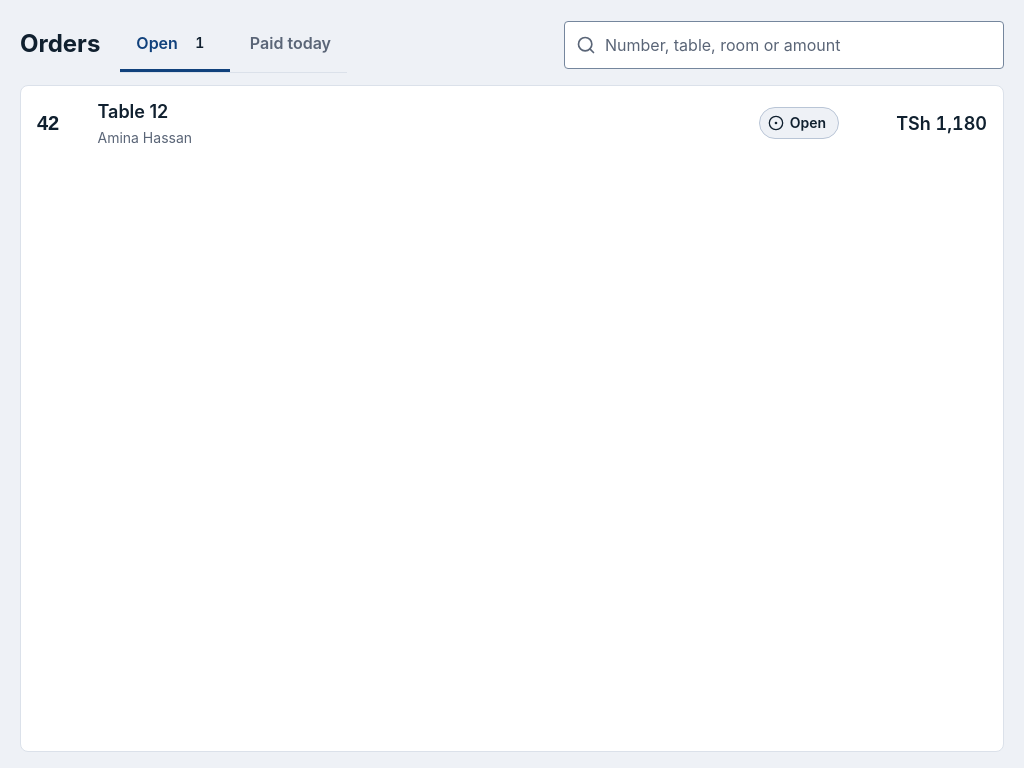
Test case: Orders › prints the bill for an open order: Yetu makes it, this till prints that one job, and says so
Click the button with test id "order-row-order-1": (133, 112) 21,86 -> 1003,160
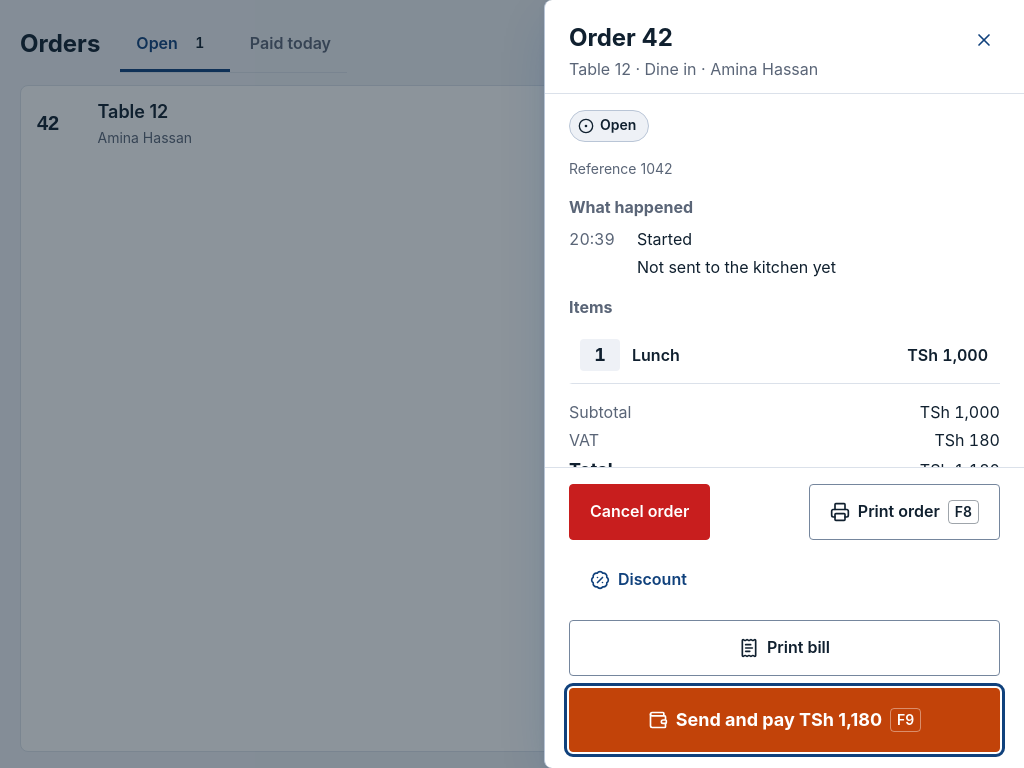
Click the button "Print bill": (784, 648) 569,620 -> 1000,676
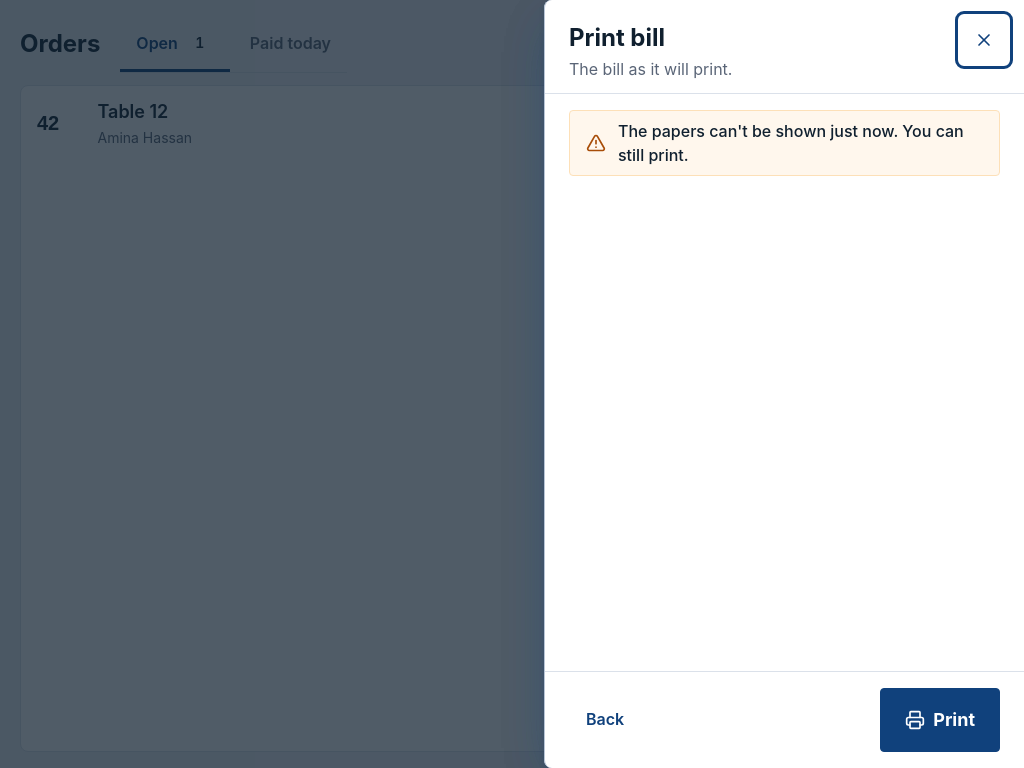
Click the button with test id "paper-print": (940, 720) 880,688 -> 1000,752
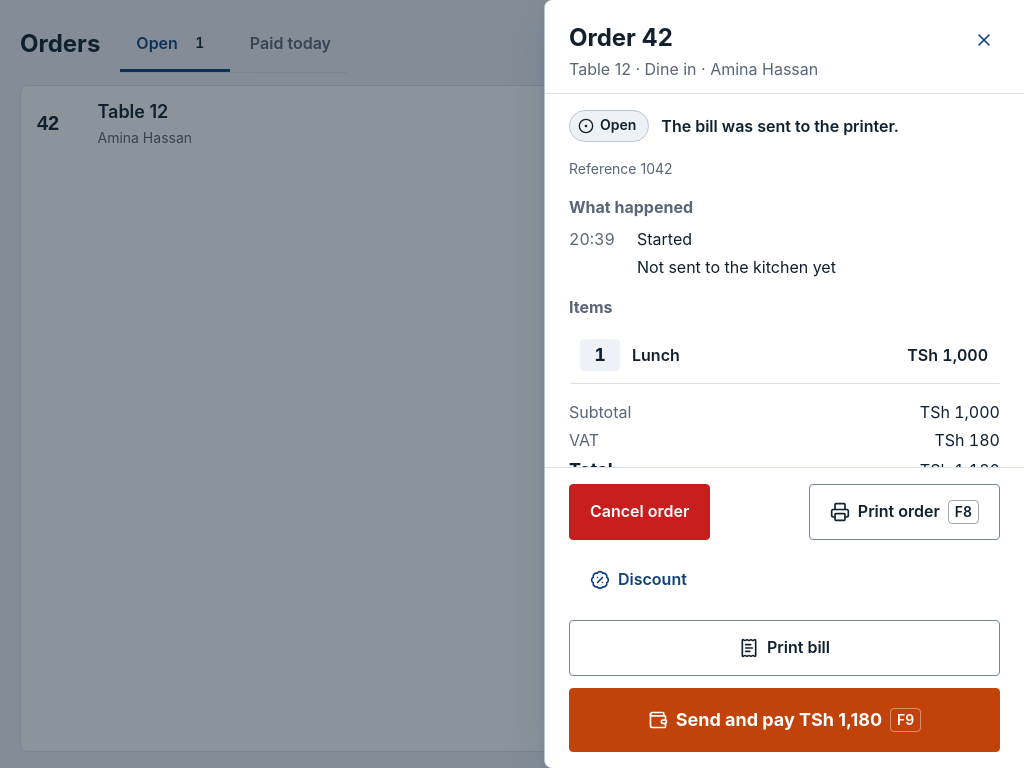
Expected: the message with test id "order-detail-result" reads "The bill was sent to the printer.", 661,116 -> 899,136
